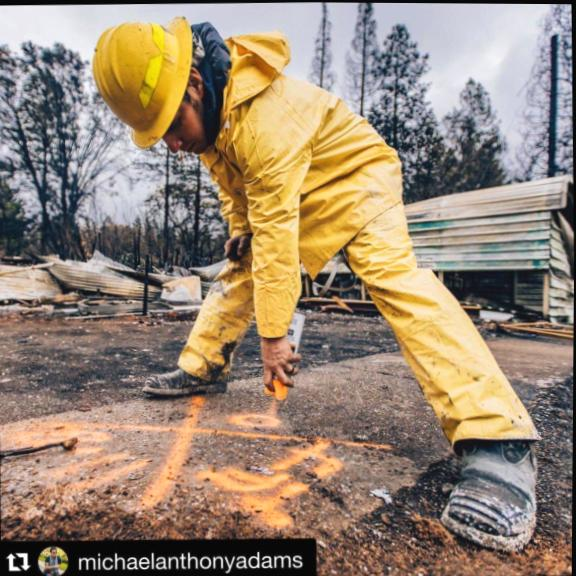no_safety_vest: (213, 56, 390, 270)
